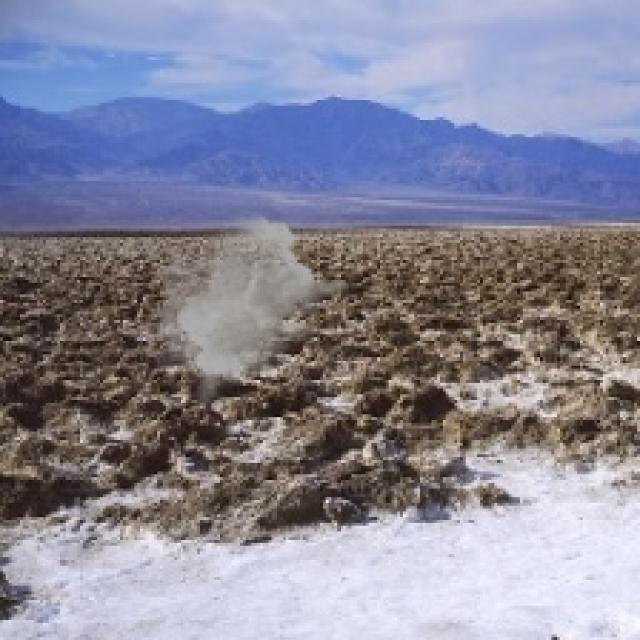Smoke: (148, 212, 354, 412)
